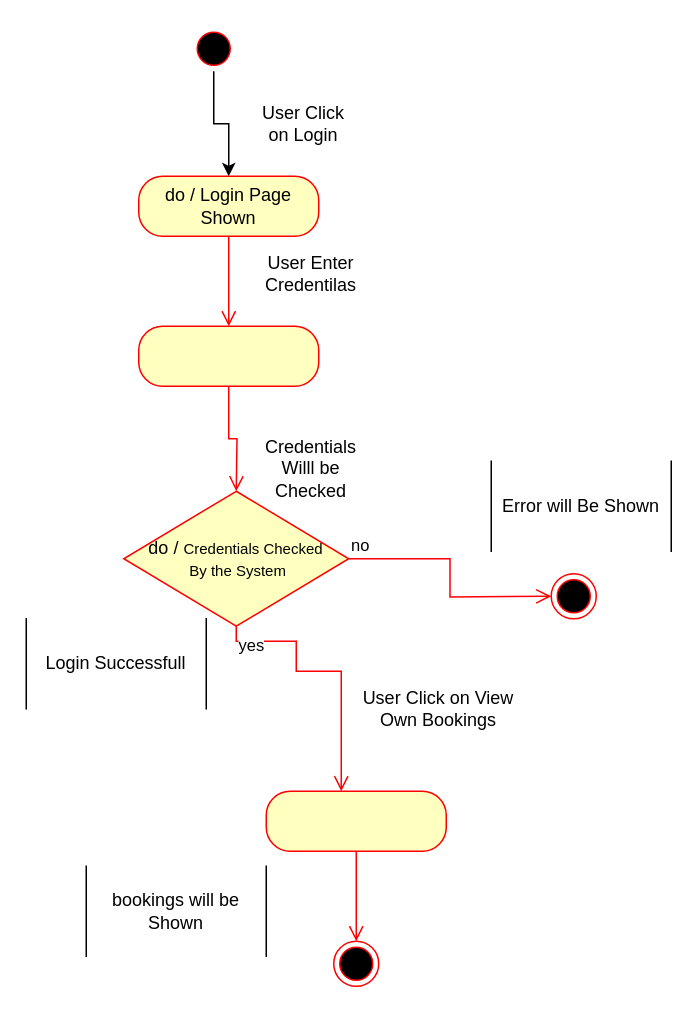
Some shapes in this 698 by 1013 pixel diagram are drawn without their labels. Each missing label, with the centre of its shape:
"do / User Credentials Entered" goes at point (228, 355).
"do / View own Bookings Displayed" goes at point (355, 820).
